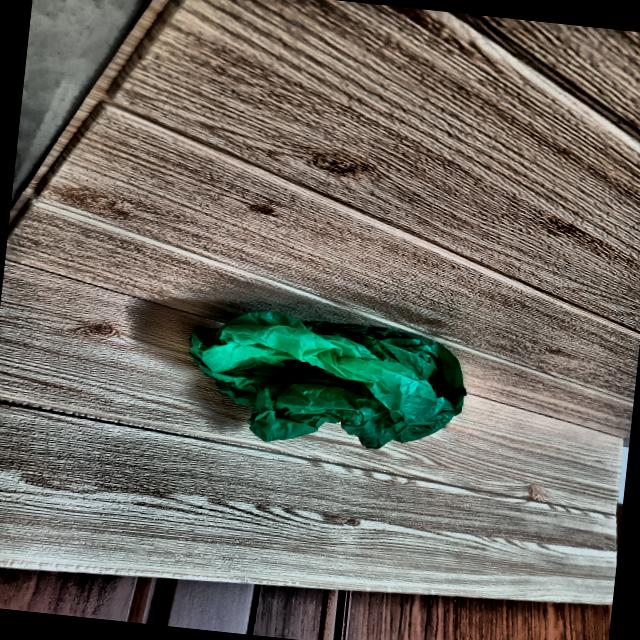plastic bag: (173, 298, 476, 471)
